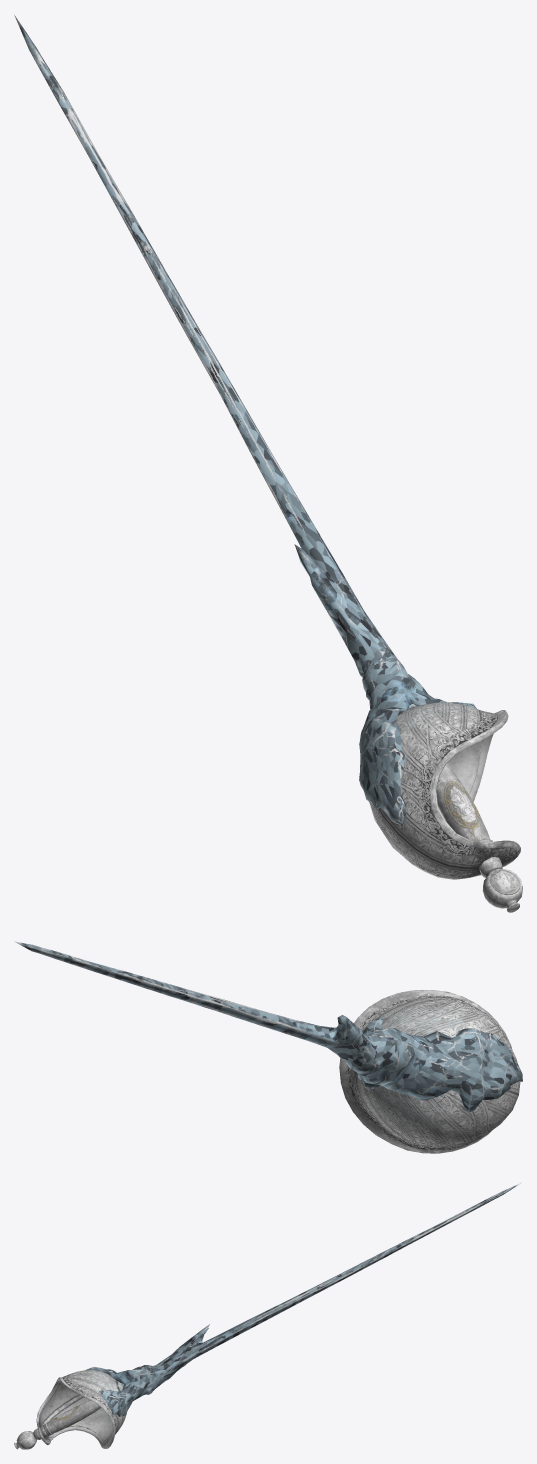
Rendered from so_pd_frozenneedlemh.glb.
3 views of the same model, one above another, from view 1: azimuth 30°, elevation 25°; view 2: azimuth 150°, elevation 25°; view 3: azimuth 270°, elevation 25° (orthographic). The views are drawn at different scales.
Visible parts, largest first — view 1: FrozenNeedle; view 2: FrozenNeedle; view 3: FrozenNeedle.
Boxes of the visible parts, x1=… form: FrozenNeedle: x1=14, y1=15, x2=522, y2=912; FrozenNeedle: x1=14, y1=941, x2=522, y2=1153; FrozenNeedle: x1=14, y1=1182, x2=521, y2=1449.
Bounding box in the file's own units: 10.86 × 36.9 × 63.59.
Materials: 1 (1 with a texture image).
